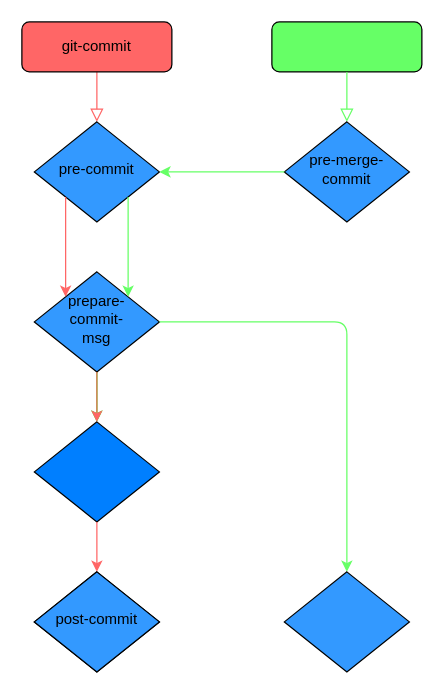
Some shapes in this 444 by 694 pixel diagram are drawn without their labels. Here are the shapes that lost their labels. From the top down, the box of each, then its label:
(271, 21, 422, 72): git-merge
(33, 421, 159, 522): commit-msg
(283, 571, 409, 672): post- merge
